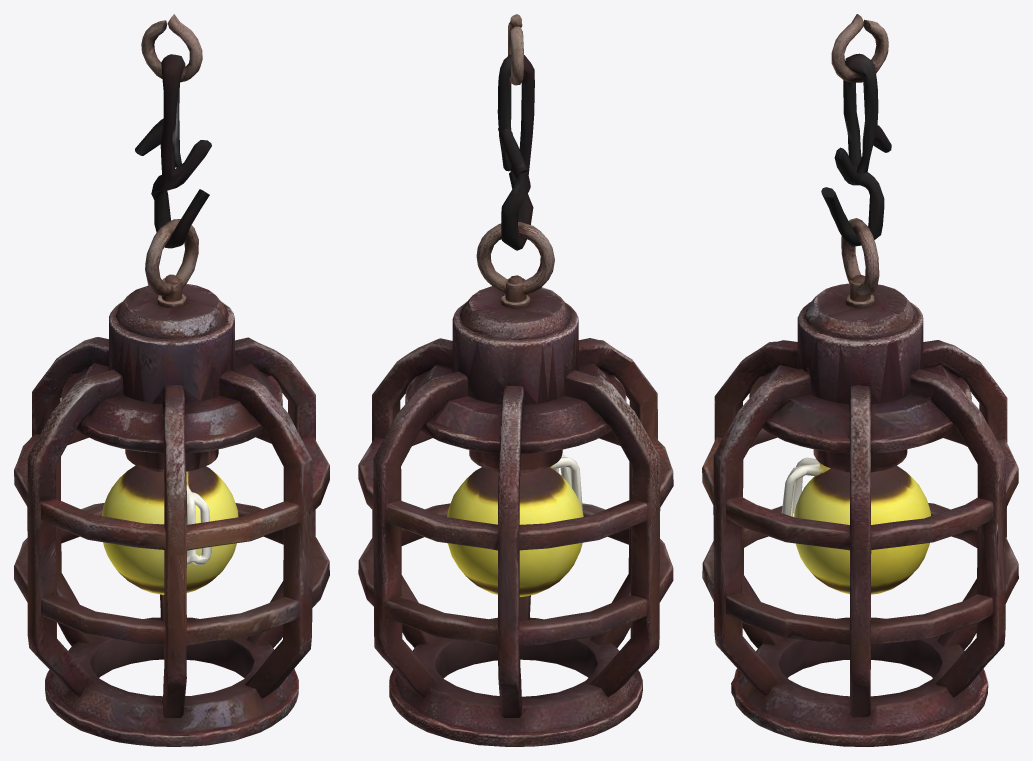
The model's file is mine_lamp_cage_idle.glb.
3 views of the same model, side by side, from view 1: azimuth 30°, elevation 25°; view 2: azimuth 150°, elevation 25°; view 3: azimuth 270°, elevation 25° (orthographic).
Parts seen in each view (by area): view 1: tripo_node_f38d1053-4a94-45dd-a1ea-db7ffa9c572e; view 2: tripo_node_f38d1053-4a94-45dd-a1ea-db7ffa9c572e; view 3: tripo_node_f38d1053-4a94-45dd-a1ea-db7ffa9c572e.
Boxes of the visible parts, x1,y1,x2,y2 form: tripo_node_f38d1053-4a94-45dd-a1ea-db7ffa9c572e: (14,14,329,746); tripo_node_f38d1053-4a94-45dd-a1ea-db7ffa9c572e: (358,14,673,746); tripo_node_f38d1053-4a94-45dd-a1ea-db7ffa9c572e: (702,14,1018,746).
Bounding box in the file's own units: 0.173 × 0.4 × 0.1687.
1 material, 1 textured.
